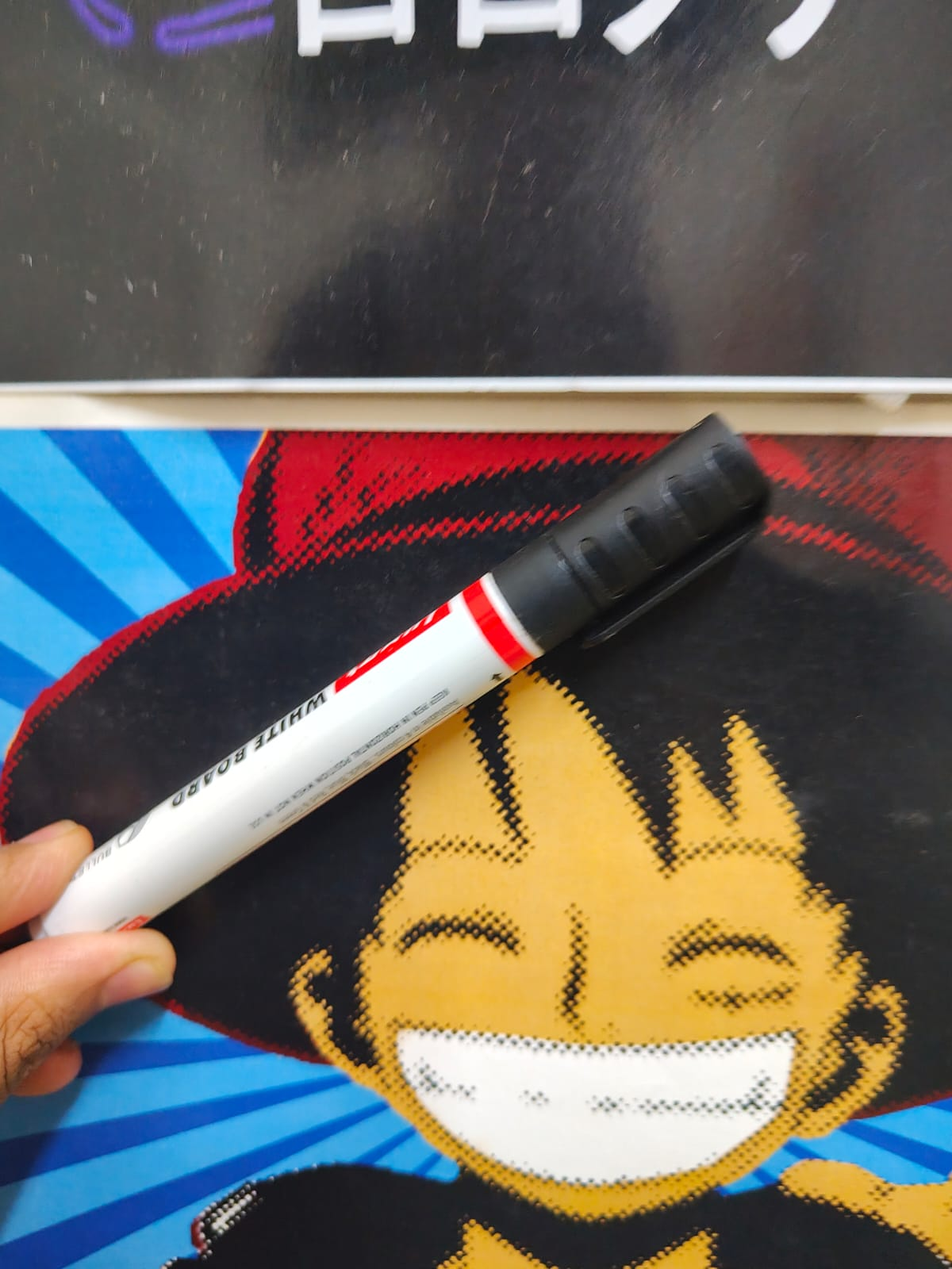case: (0, 418, 882, 977)
